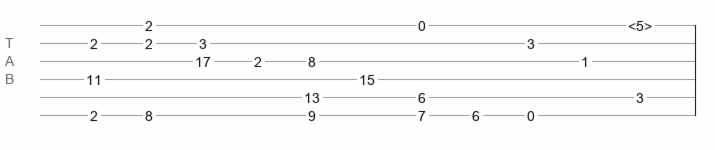0: (418, 18, 426, 28), (527, 108, 535, 118)
1: (581, 54, 589, 64)
11: (86, 72, 102, 82)
13: (304, 90, 320, 100)
15: (359, 72, 375, 82)
17: (195, 54, 211, 64)
2: (90, 108, 98, 118), (90, 36, 98, 46), (145, 36, 153, 46), (145, 18, 153, 28), (254, 54, 262, 64)
3: (199, 36, 207, 46), (527, 36, 535, 46), (636, 90, 644, 100)
6: (418, 90, 426, 100), (472, 108, 480, 118)
7: (418, 108, 426, 118)
8: (145, 108, 153, 118), (308, 54, 316, 64)
9: (308, 108, 316, 118)
harmonic: (628, 18, 652, 28)
